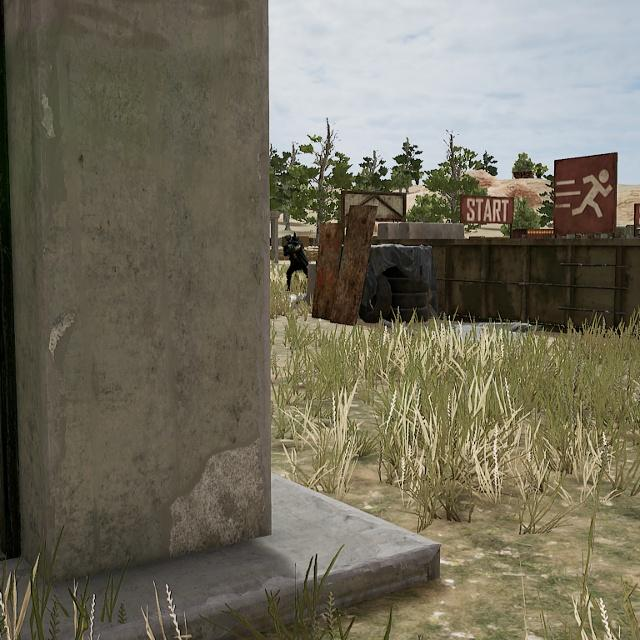head: (285, 233, 293, 244)
people: (283, 233, 309, 292)
